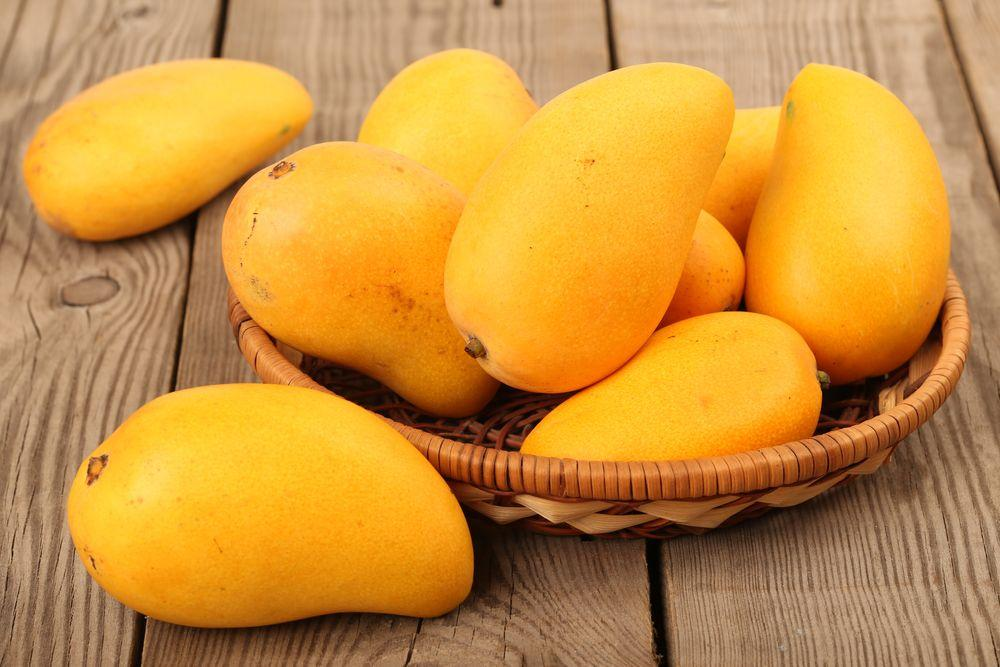xoai: (69, 382, 473, 635), (441, 60, 737, 392), (22, 56, 310, 243)
